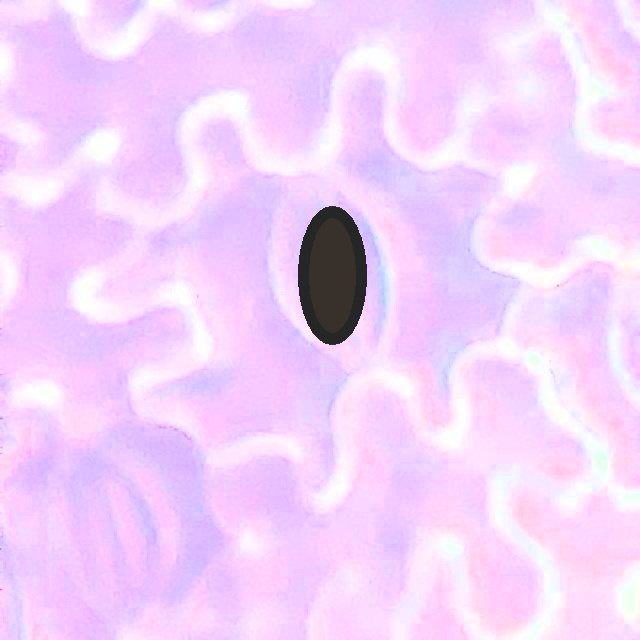open: (298, 206, 366, 344)
